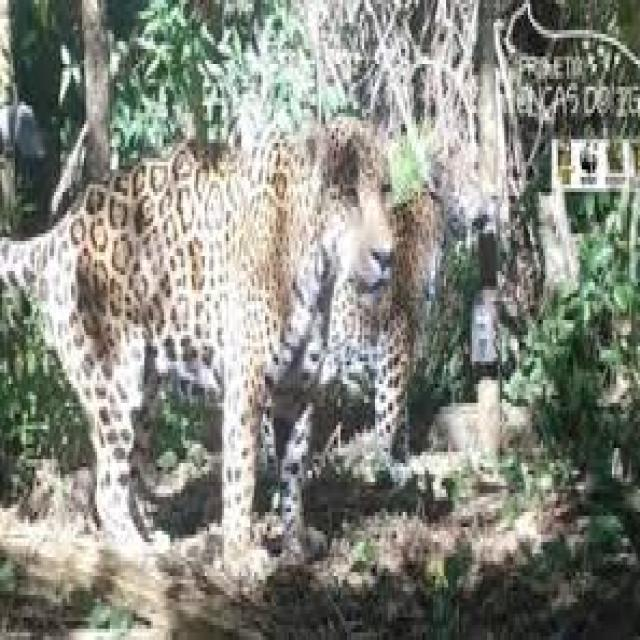Jaguar: (0, 113, 399, 583)
